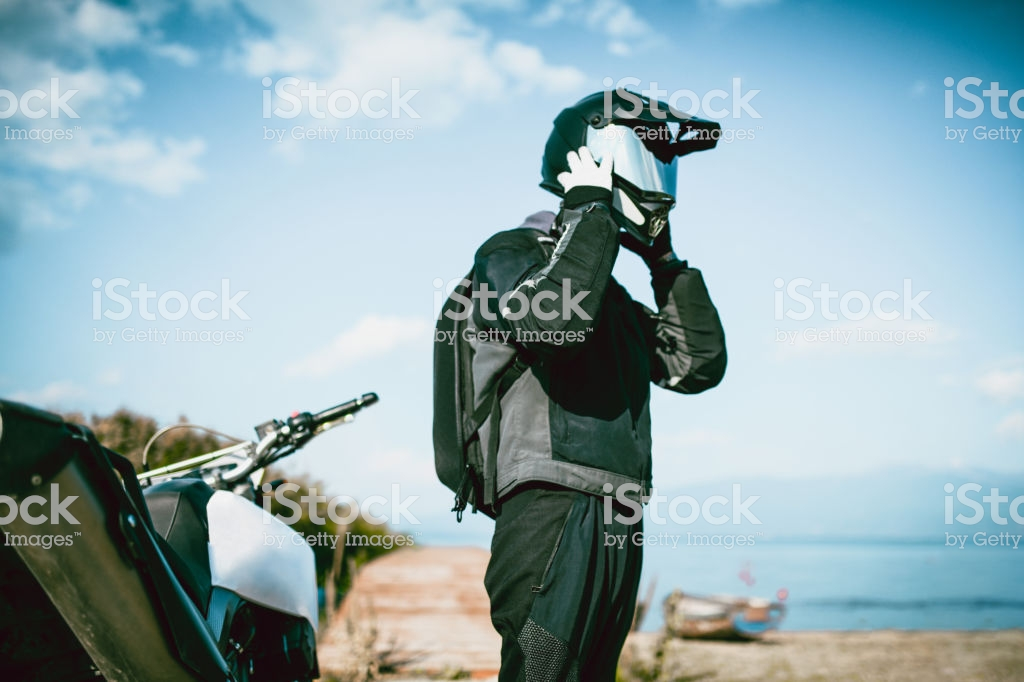helmet: (526, 77, 688, 245)
